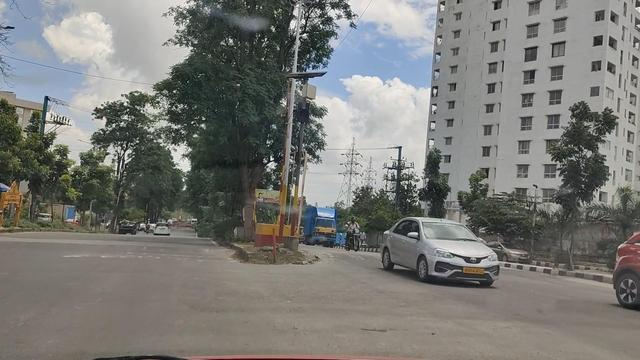LMV: (386, 213, 499, 292)
